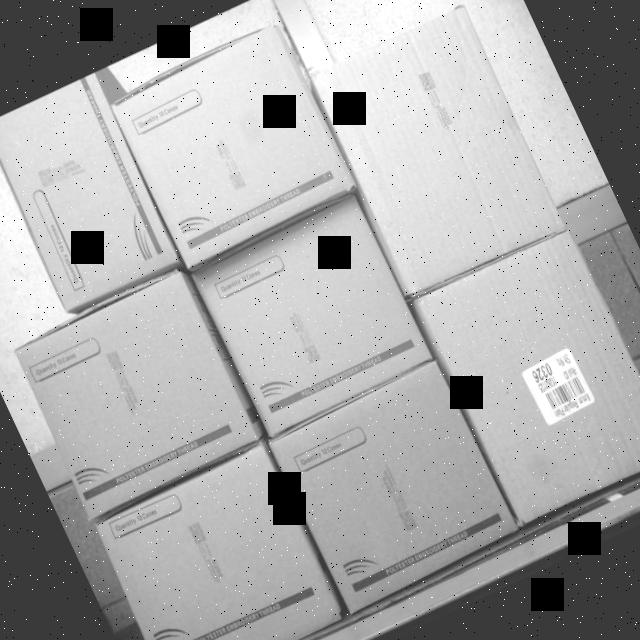box: (303, 3, 566, 301), (414, 223, 640, 529), (8, 267, 264, 521), (105, 15, 356, 268), (269, 360, 519, 608), (192, 193, 434, 436), (89, 441, 345, 640), (0, 72, 181, 314)
